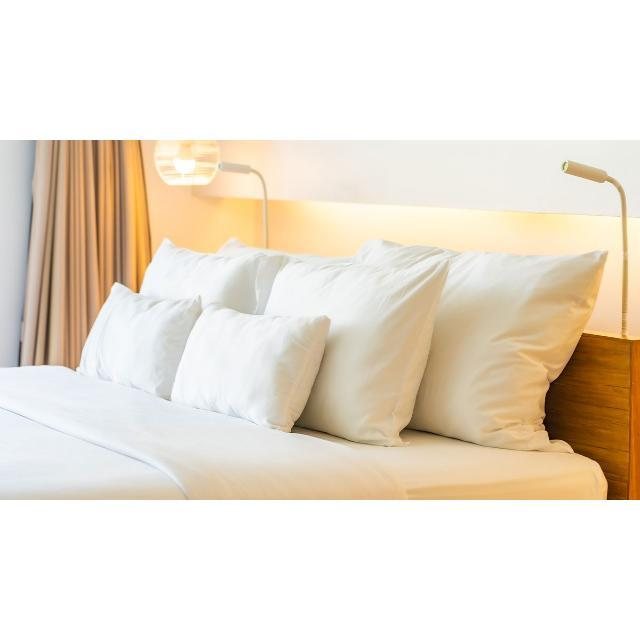pillow: (410, 250, 609, 454), (253, 252, 451, 446), (166, 307, 330, 436), (71, 281, 202, 398), (137, 240, 272, 307)
